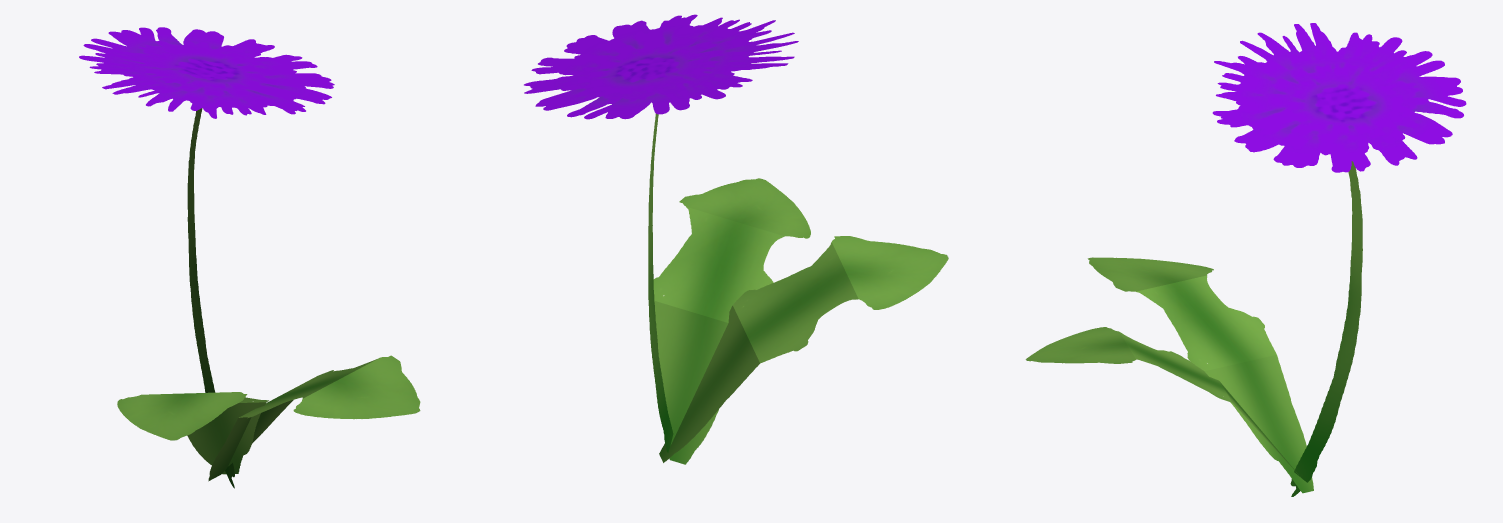
File: FRM0210003.fbx
3 renders of one model, left to right at view 1: azimuth 30°, elevation 25°; view 2: azimuth 150°, elevation 25°; view 3: azimuth 270°, elevation 25°, orthographic. The views are drawn at different scales.
Parts seen in each view (by area): view 1: smFRM0210003; view 2: smFRM0210003; view 3: smFRM0210003.
Part boxes in pixels (box(x1,y1,x2,y2)): smFRM0210003: box(79, 27, 420, 488); smFRM0210003: box(524, 14, 948, 464); smFRM0210003: box(1025, 23, 1466, 496).
Size of the model in its own units: 20.87 by 25.06 by 25.73.
1 material, 1 textured.
